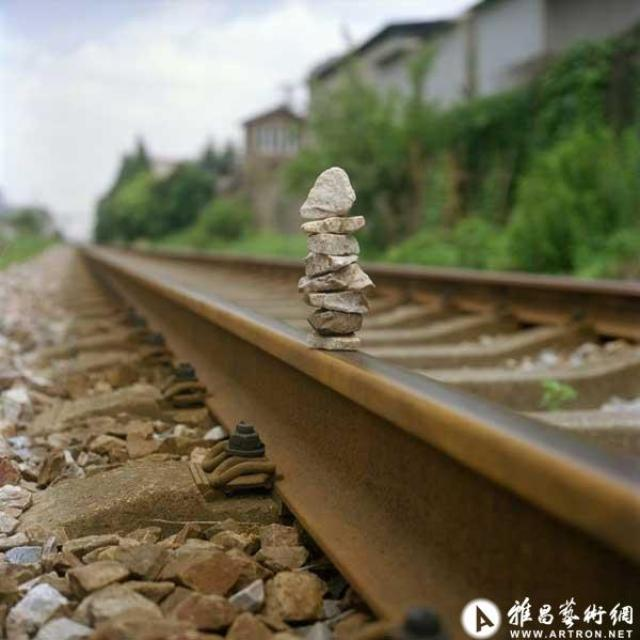Stone: (273, 162, 386, 356)
